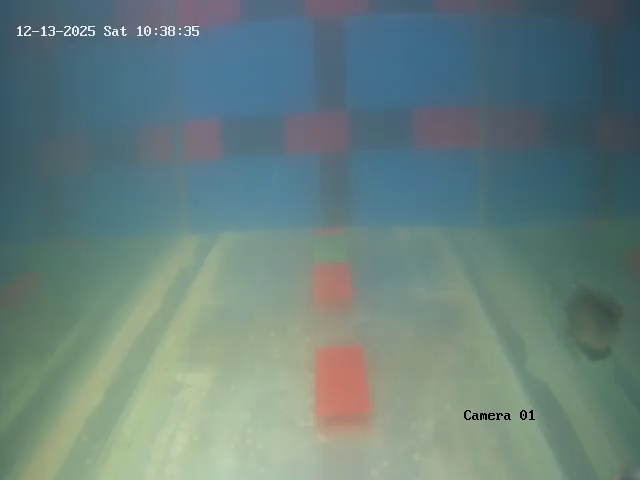fish: (556, 280, 618, 363)
